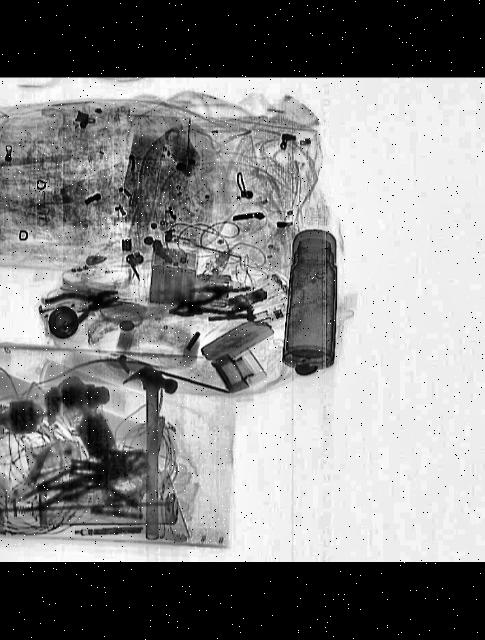Pliers: (42, 278, 127, 332), (165, 285, 242, 326)
